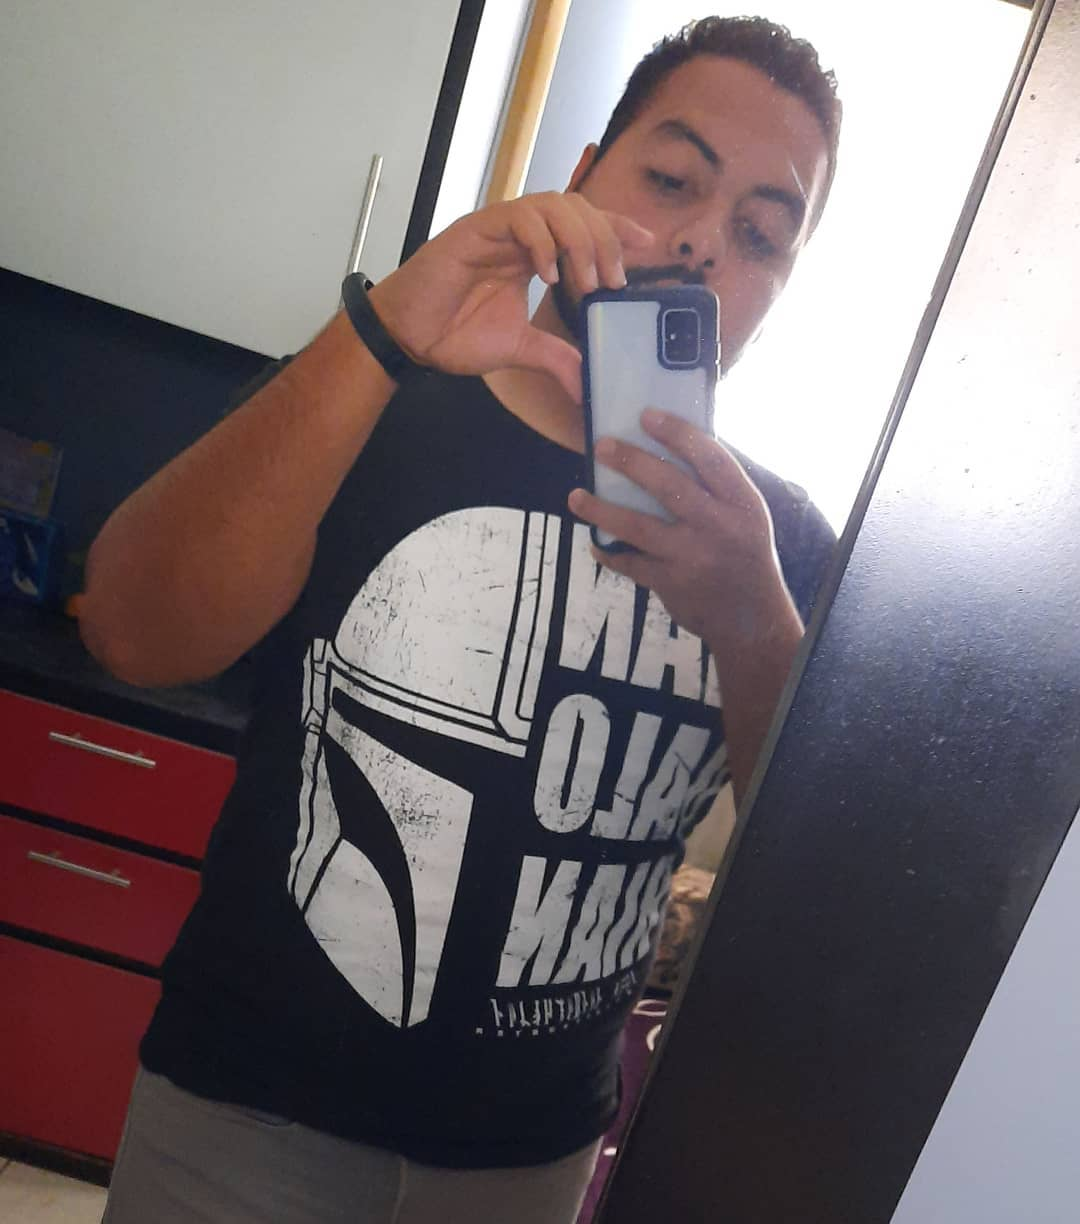Yoshi: (107, 15, 935, 915)
